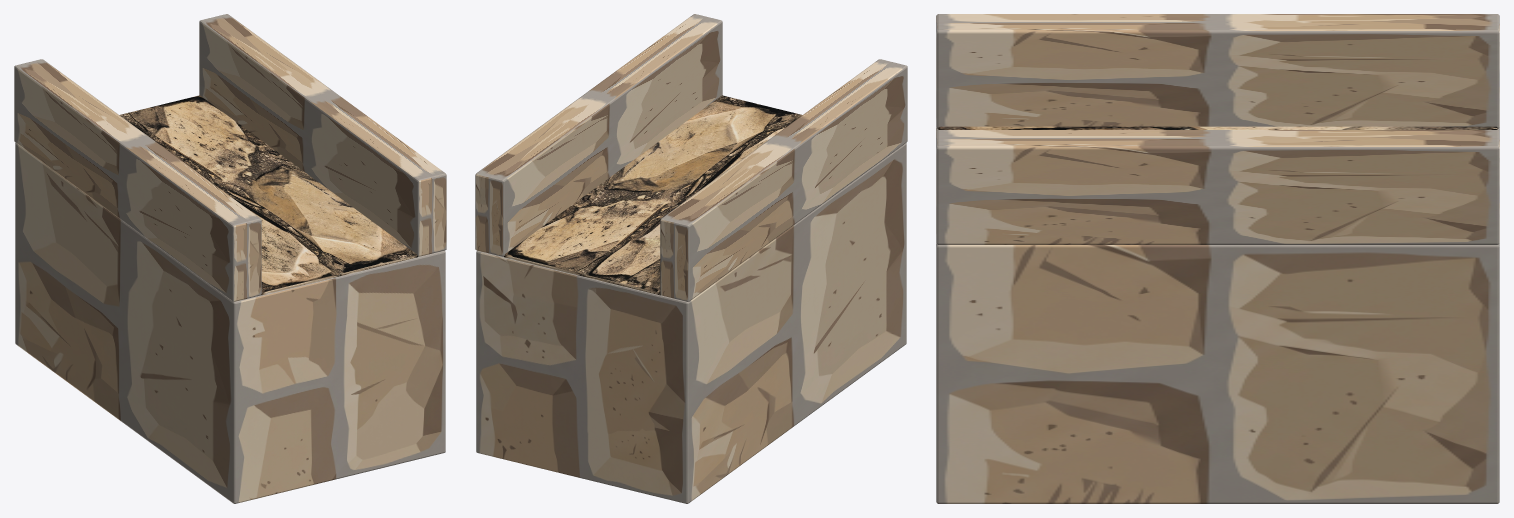
Rendered from fortress_wallwalk_straight_6m_LOD1.glb.
3 views of the same model, side by side, from view 1: azimuth 30°, elevation 25°; view 2: azimuth 150°, elevation 25°; view 3: azimuth 270°, elevation 25° (orthographic). The views are drawn at different scales.
Visible parts, largest first — view 1: LOD1_Wall, LOD1_Parapet, LOD1_Parapet.001, LOD1_Deck; view 2: LOD1_Wall, LOD1_Parapet, LOD1_Parapet.001, LOD1_Deck; view 3: LOD1_Wall, LOD1_Parapet.001, LOD1_Parapet, LOD1_Deck.
Part boxes in pixels (bbox=[...]): LOD1_Wall: bbox=[15, 143, 445, 503]; LOD1_Parapet: bbox=[14, 59, 261, 301]; LOD1_Parapet.001: bbox=[199, 14, 446, 256]; LOD1_Deck: bbox=[119, 95, 417, 295]; LOD1_Wall: bbox=[476, 143, 906, 503]; LOD1_Parapet: bbox=[660, 59, 907, 301]; LOD1_Parapet.001: bbox=[475, 14, 722, 256]; LOD1_Deck: bbox=[504, 95, 802, 295]; LOD1_Wall: bbox=[936, 127, 1499, 503]; LOD1_Parapet.001: bbox=[936, 130, 1499, 244]; LOD1_Parapet: bbox=[936, 14, 1499, 128]; LOD1_Deck: bbox=[938, 126, 1497, 129].
Bounding box in the file's own units: 3.38 × 4.21 × 6.
2 materials, 2 textured.
